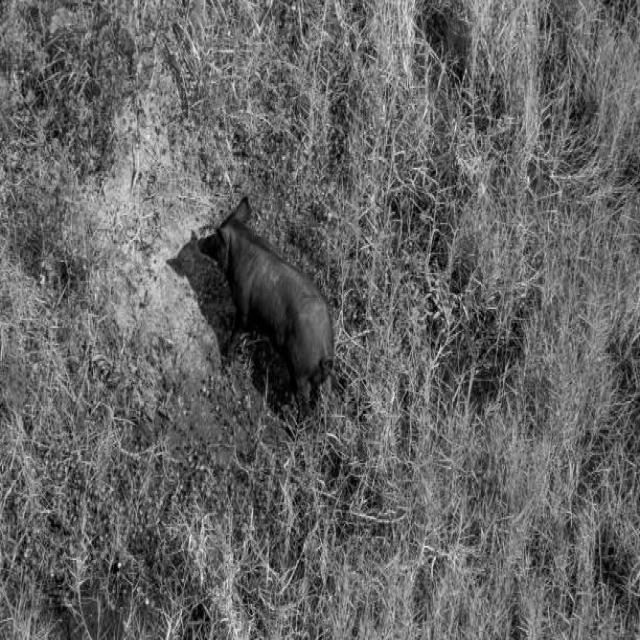boar: (199, 196, 334, 416)
